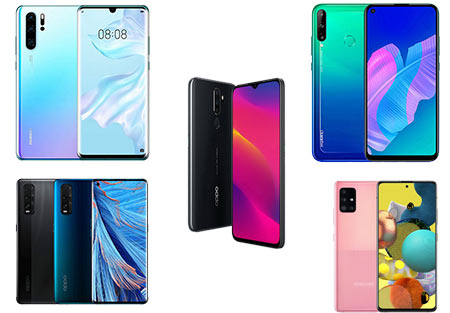Phone: (362, 1, 441, 163), (13, 4, 91, 161), (75, 4, 151, 162), (311, 3, 385, 163), (227, 77, 286, 250), (376, 181, 438, 313), (186, 77, 238, 233), (88, 177, 150, 307), (333, 180, 386, 313), (15, 178, 62, 305), (53, 178, 98, 305)
